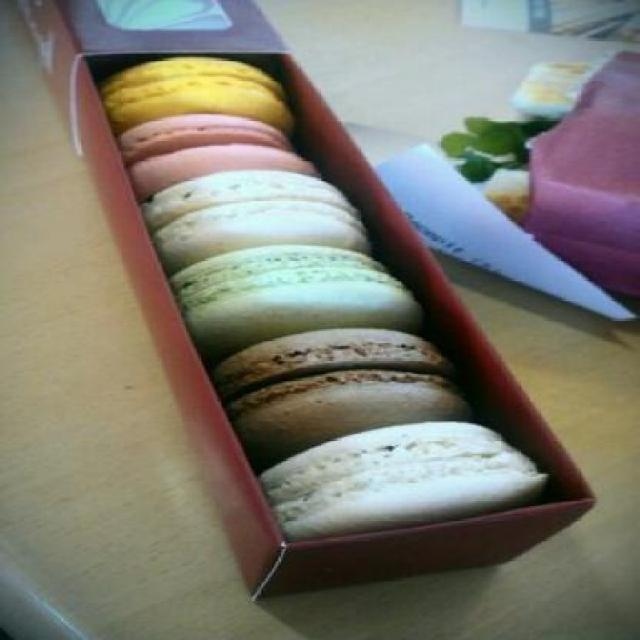Macaron: (81, 56, 594, 582)
